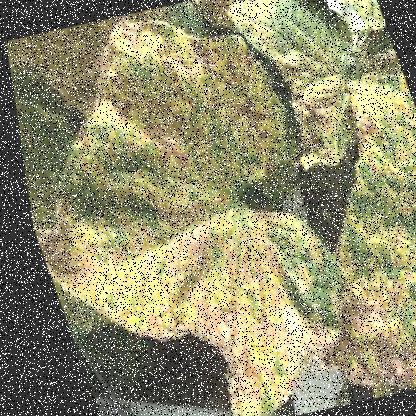Anthracnose: (17, 145, 258, 395), (92, 0, 310, 209), (283, 212, 415, 403), (208, 188, 356, 358)
